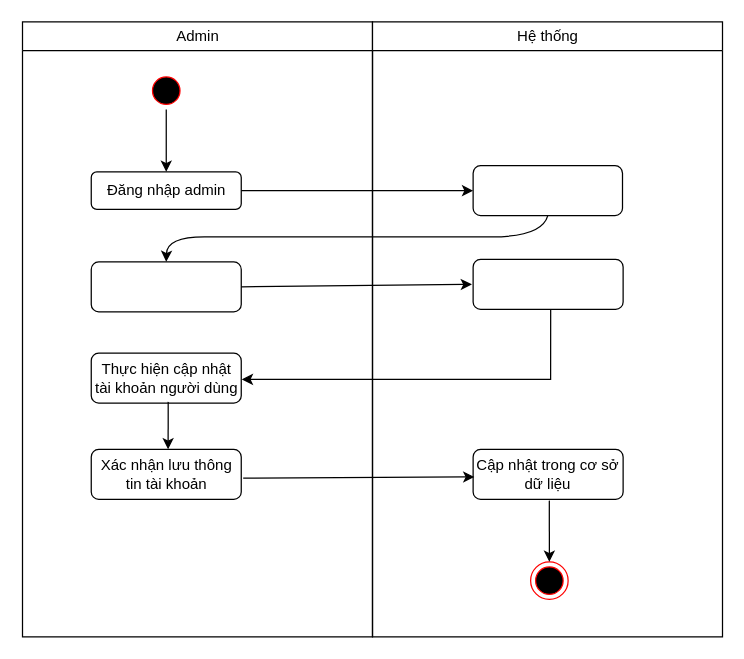
The diagram is 744 pixels wide and 659 high, and some of its shapes have lost their labels. Each missing label, with the centre of its shape:
"Chọn quản lý tài khoản" goes at pixel 165 286.
"Hiển thị các tab quản lý tài khoản" goes at pixel 547 283.
"Xác nhận đăng nhập thành công" goes at pixel 547 190.
